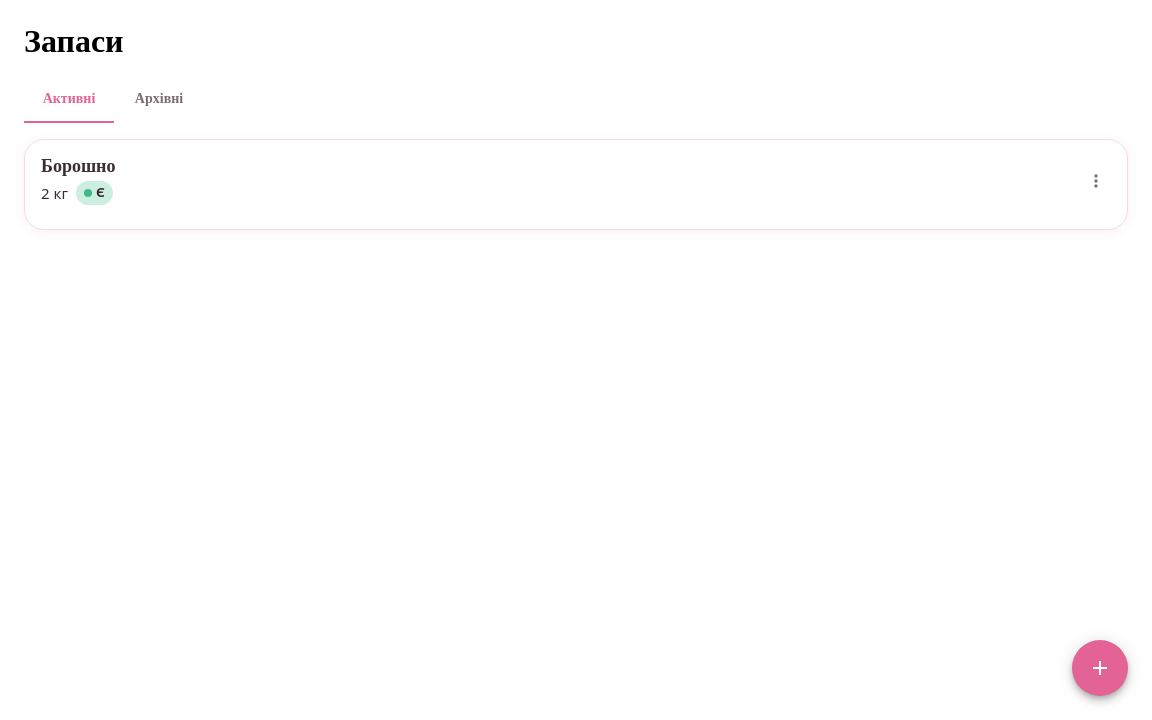
InventoryPage stock/presence action availability › shows restock and correction actions (and not presence actions) for a quantity ingredient
What coordinates should you click on to do the following:
click the button named "Більше дій для «Борошно»"
I would click on:
 (1096, 180)
Its box is left=1081, top=166, right=1111, bottom=196.
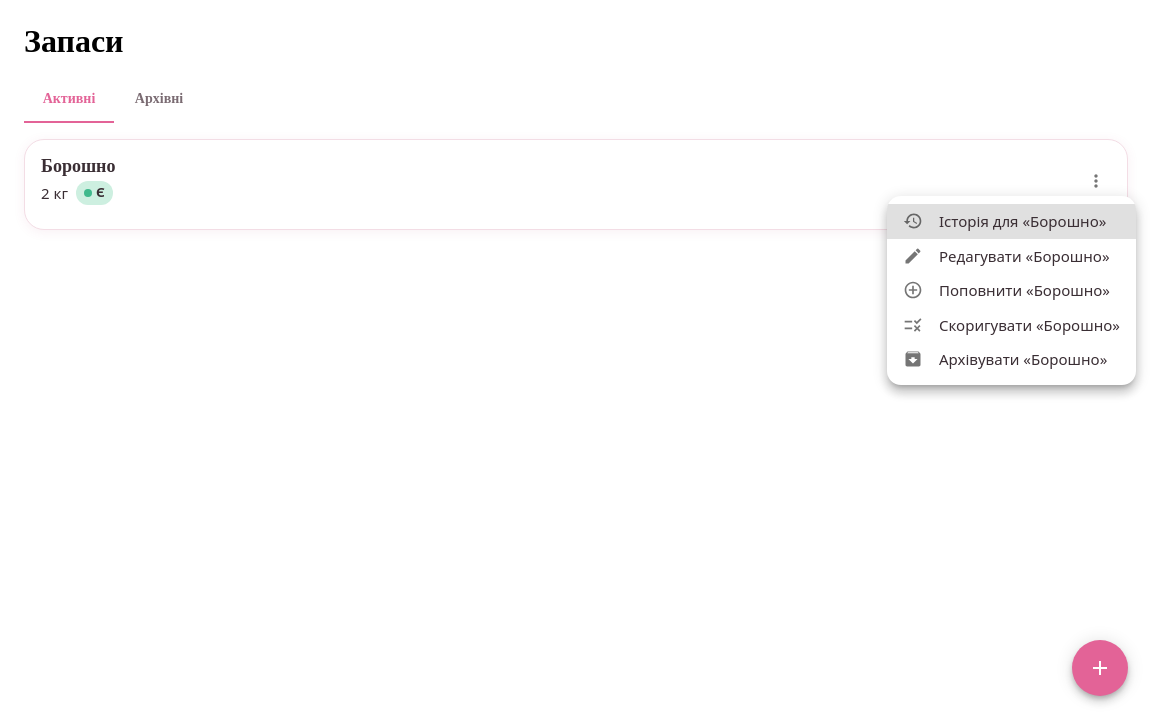
Expected: the menu item "Поповнити «Борошно»" is shown, left=903, top=280, right=1110, bottom=300
Expected: the menu item "Скоригувати «Борошно»" is shown, left=903, top=314, right=1120, bottom=335
